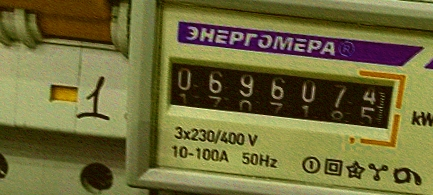0: (173, 63, 194, 90), (298, 75, 317, 103)
4: (360, 82, 377, 104)
5: (358, 104, 374, 124)
6: (204, 66, 225, 93), (267, 72, 286, 100)
7: (329, 80, 348, 108)
9: (235, 70, 255, 98)
screen: (155, 42, 409, 148)
